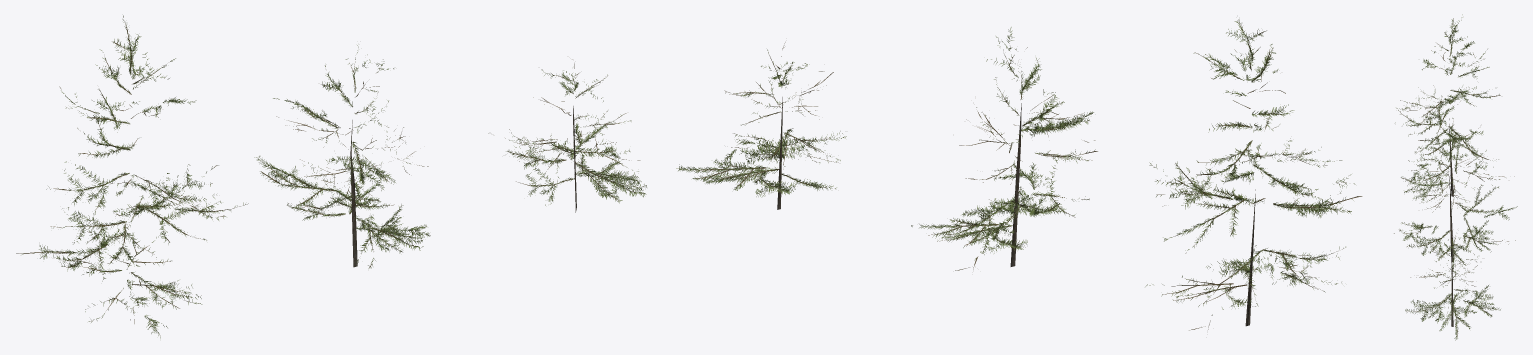
The model's file is fir_seedling.glb.
3 renders of one model, left to right at view 1: azimuth 30°, elevation 25°; view 2: azimuth 150°, elevation 25°; view 3: azimuth 270°, elevation 25°, orthographic. The views are drawn at different scales.
Visible parts, largest first — view 1: fir_sapling_a, fir_sapling_b, fir_sapling_c; view 2: fir_sapling_a, fir_sapling_b, fir_sapling_c; view 3: fir_sapling_a, fir_sapling_b, fir_sapling_c.
Boxes of the visible parts, box(x1,y1,x2,y2) form: fir_sapling_a: box(16, 15, 248, 338); fir_sapling_b: box(254, 45, 430, 268); fir_sapling_c: box(488, 59, 646, 212); fir_sapling_a: box(1145, 19, 1362, 330); fir_sapling_b: box(911, 27, 1097, 270); fir_sapling_c: box(676, 42, 846, 209); fir_sapling_a: box(1395, 14, 1514, 208); fir_sapling_b: box(1394, 129, 1517, 273); fir_sapling_c: box(1405, 229, 1500, 340).
Bounding box in the file's own units: 2.73 × 1.3 × 0.8171.
Materials: 2 (2 with a texture image).
